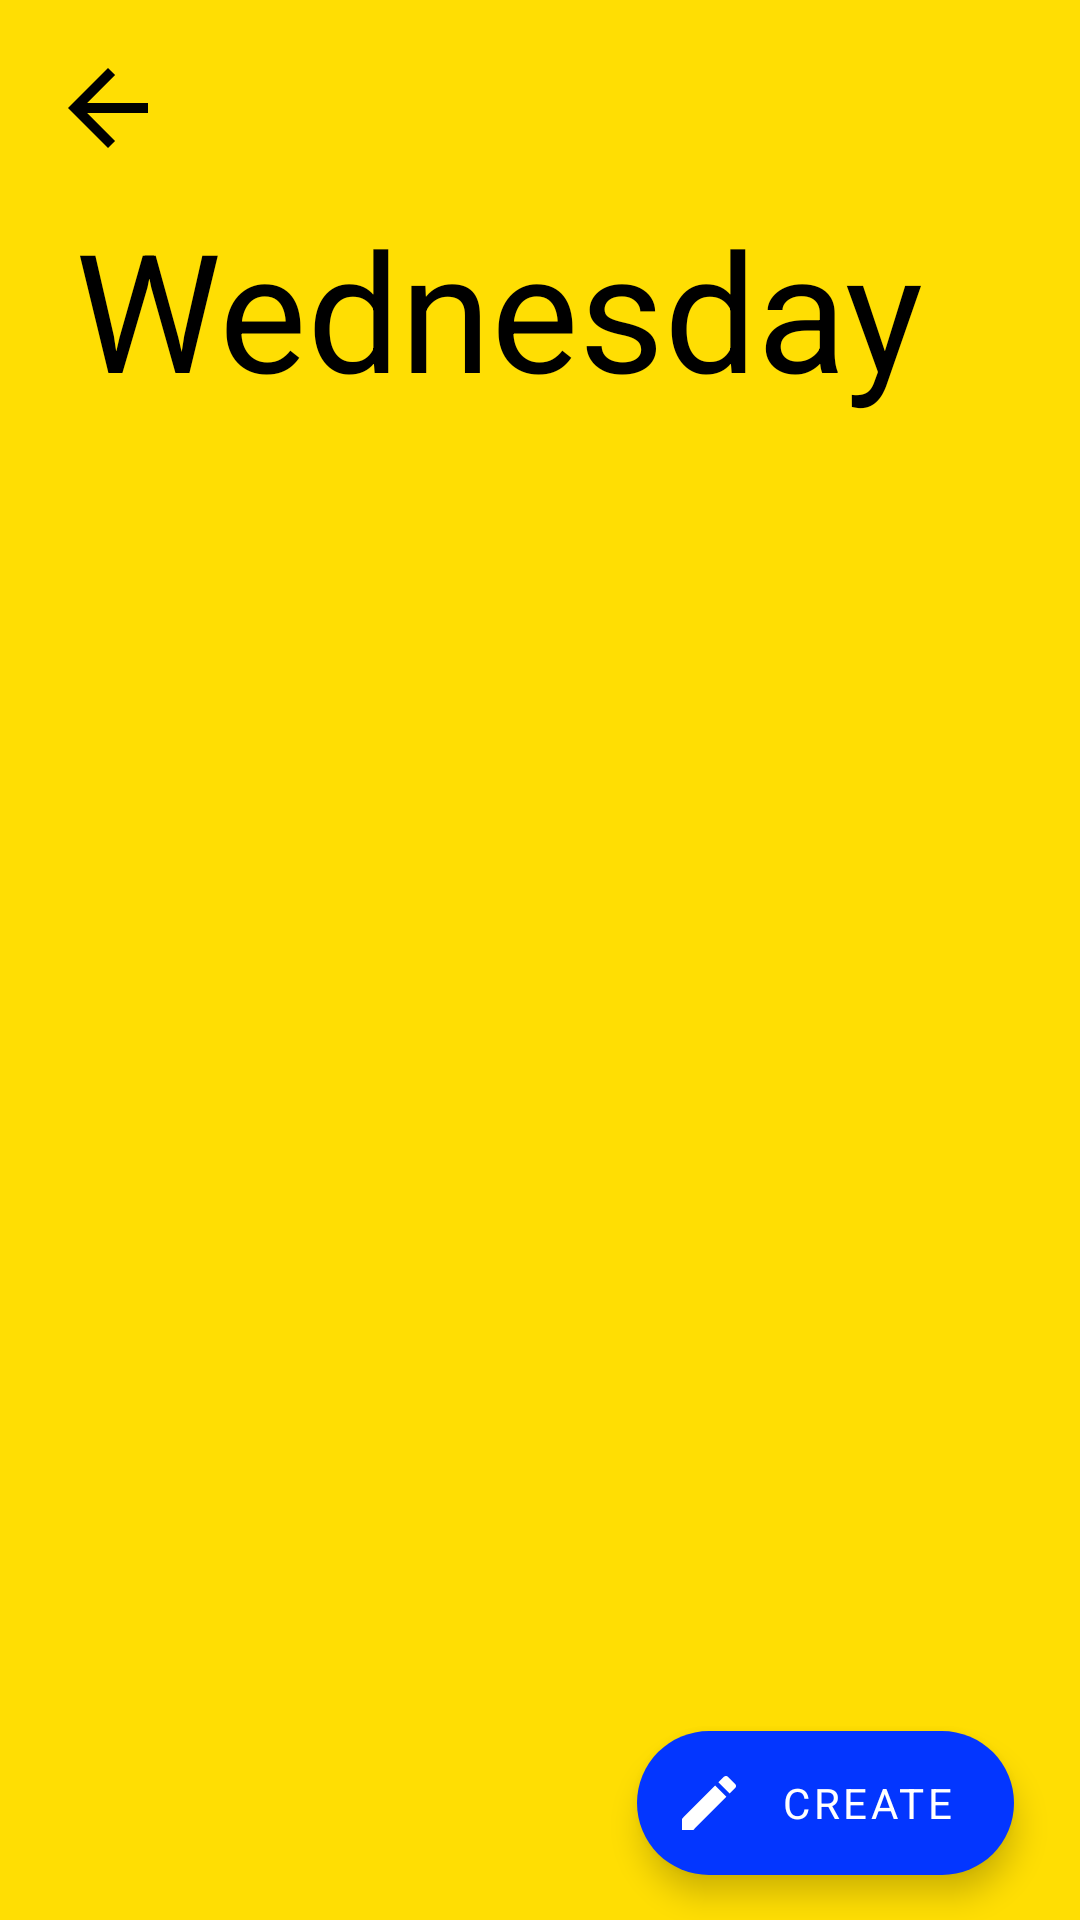

Named icons in this screenshot (1080px x 1920px) and their bounding boxes, {"x1": x1, "y1": y1, "x2": x2, "y2": y2}:
arrow back: {"x1": 68, "y1": 68, "x2": 148, "y2": 148}
